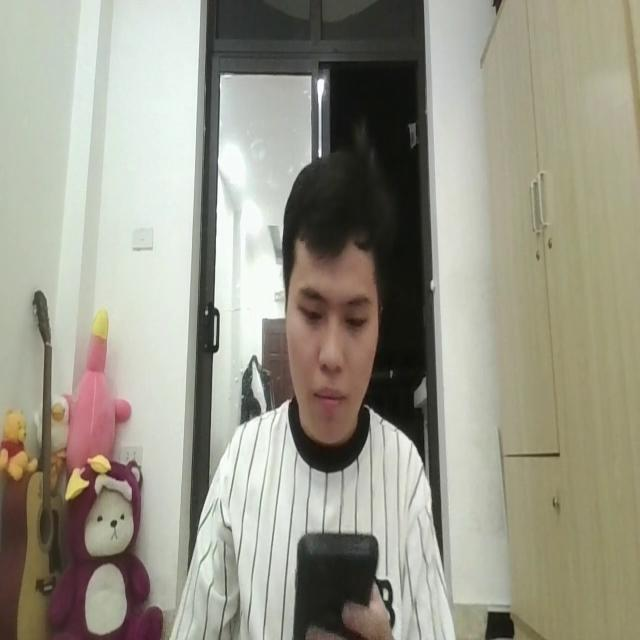phone: (292, 523, 376, 640)
student: (173, 143, 451, 640)
